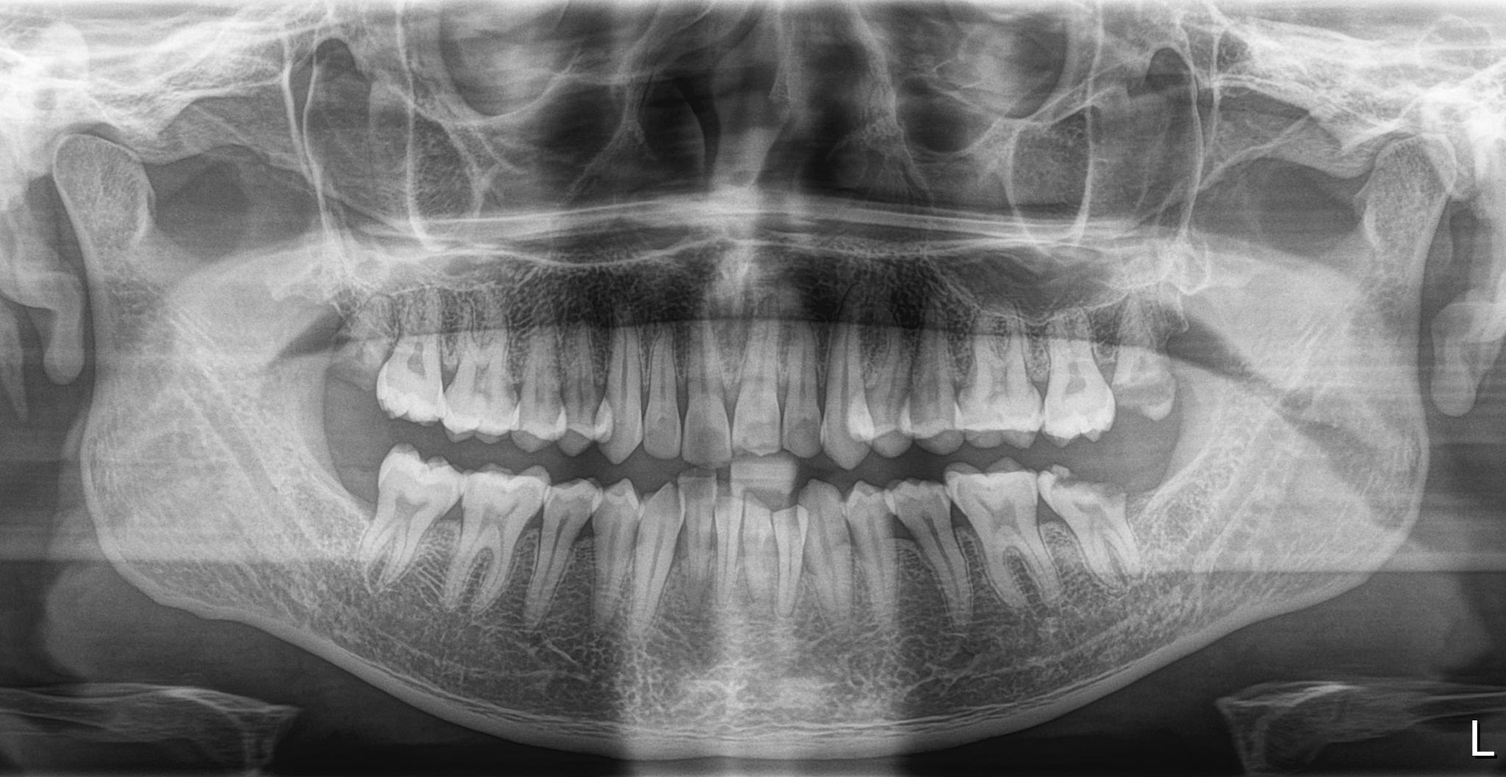Dental Caries: (1121, 366, 1189, 423), (342, 320, 383, 398), (1077, 494, 1118, 540)
Missing Tooth: (1132, 450, 1192, 577), (320, 395, 377, 527)
